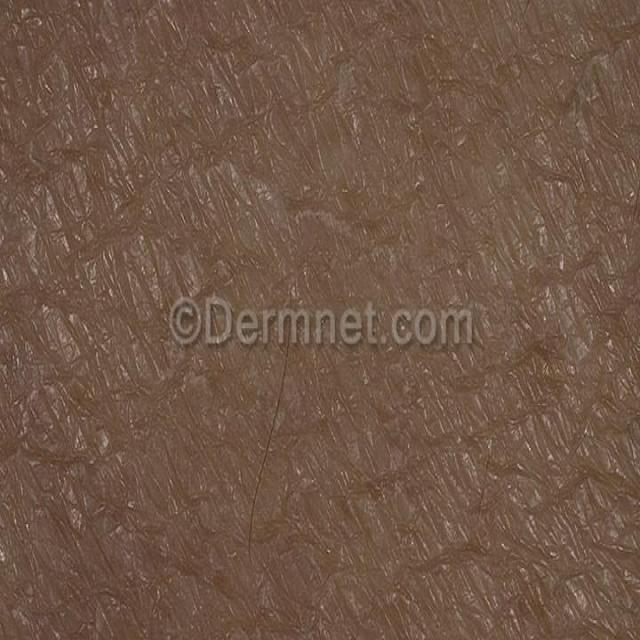Eczema: (24, 18, 626, 620)
